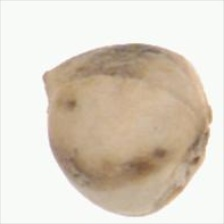L4: (41, 43, 213, 218)
